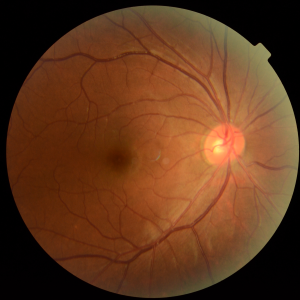retina_disease: (96, 96, 271, 211)
